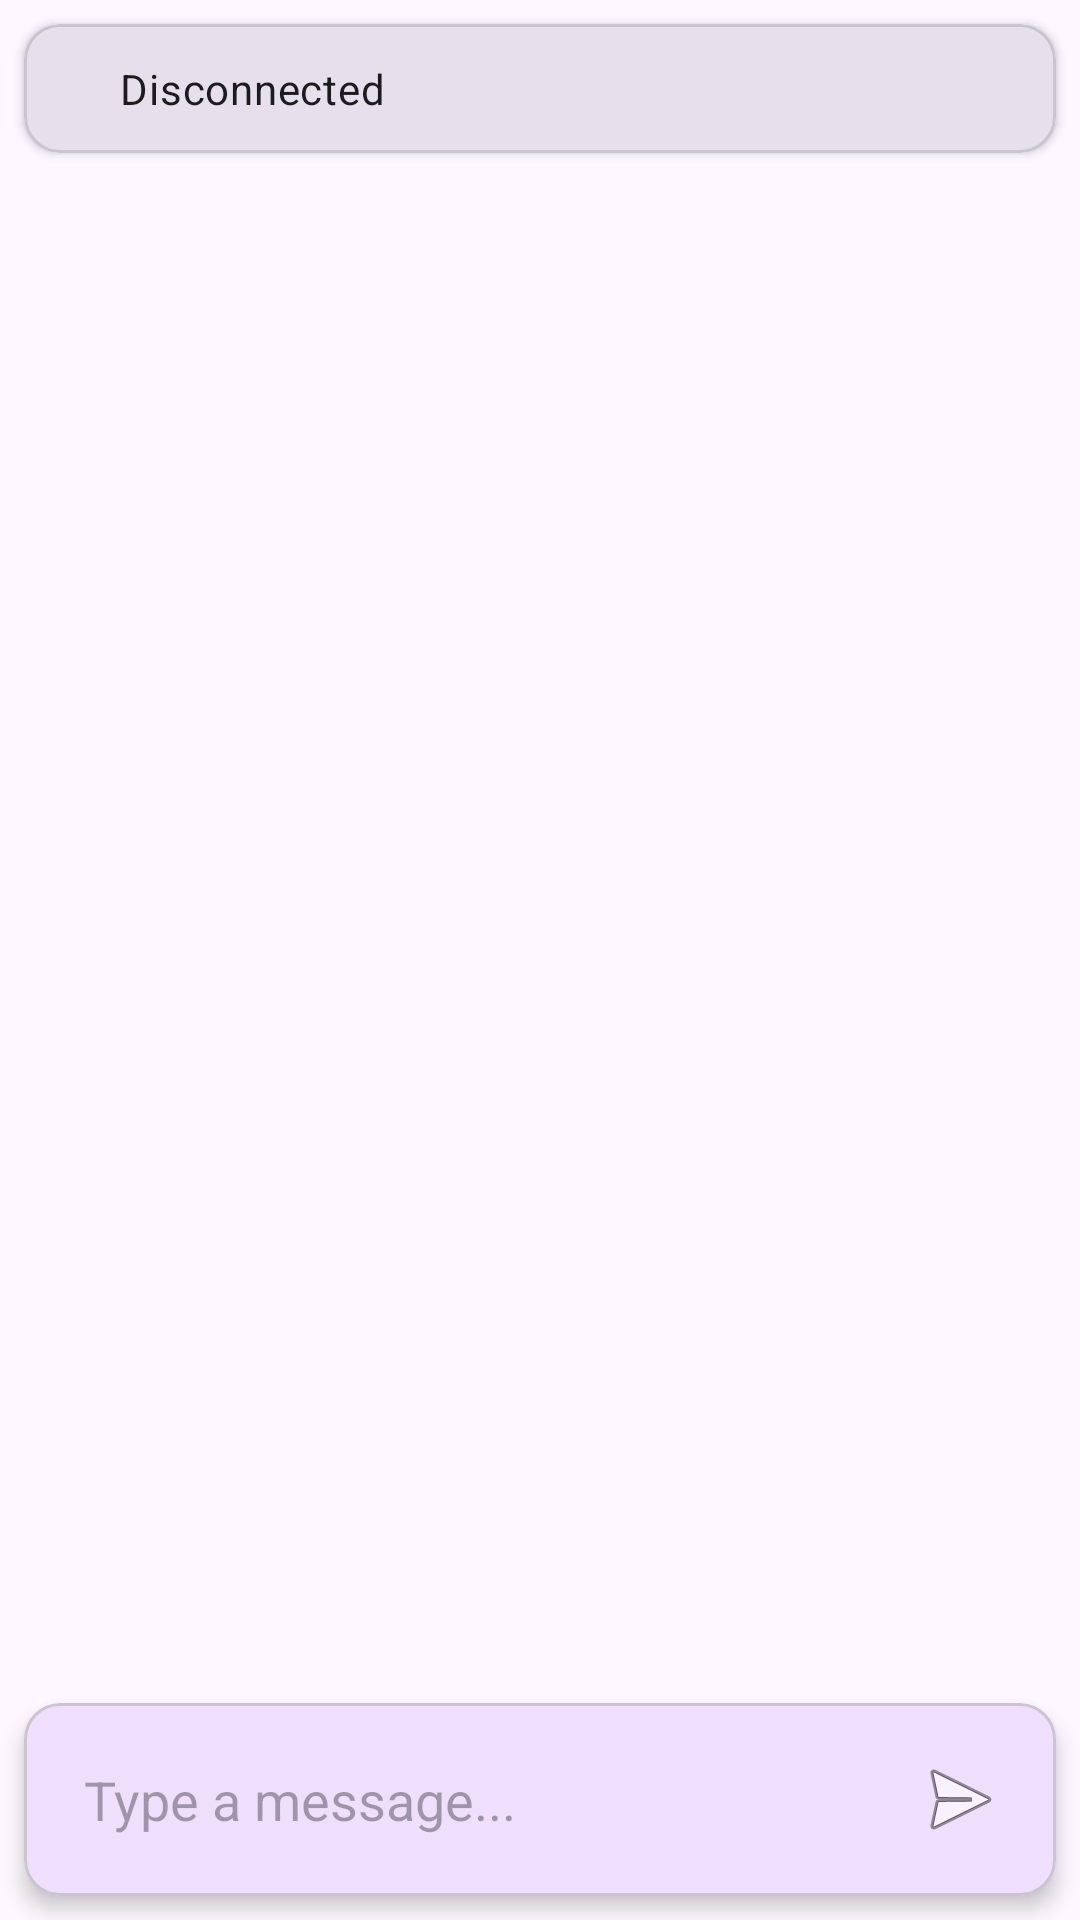

Icon click points for this 1080px×1920px phone screenshot, format (x,y):
Send: (961,1799)
